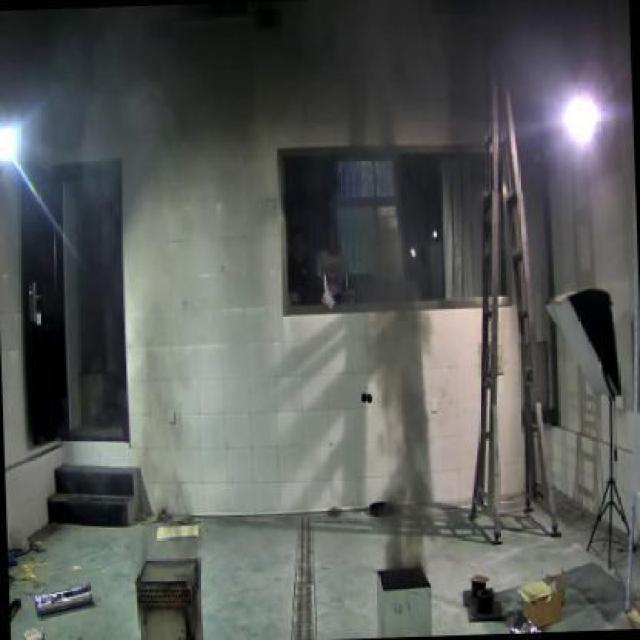fire: (367, 312, 438, 566)
